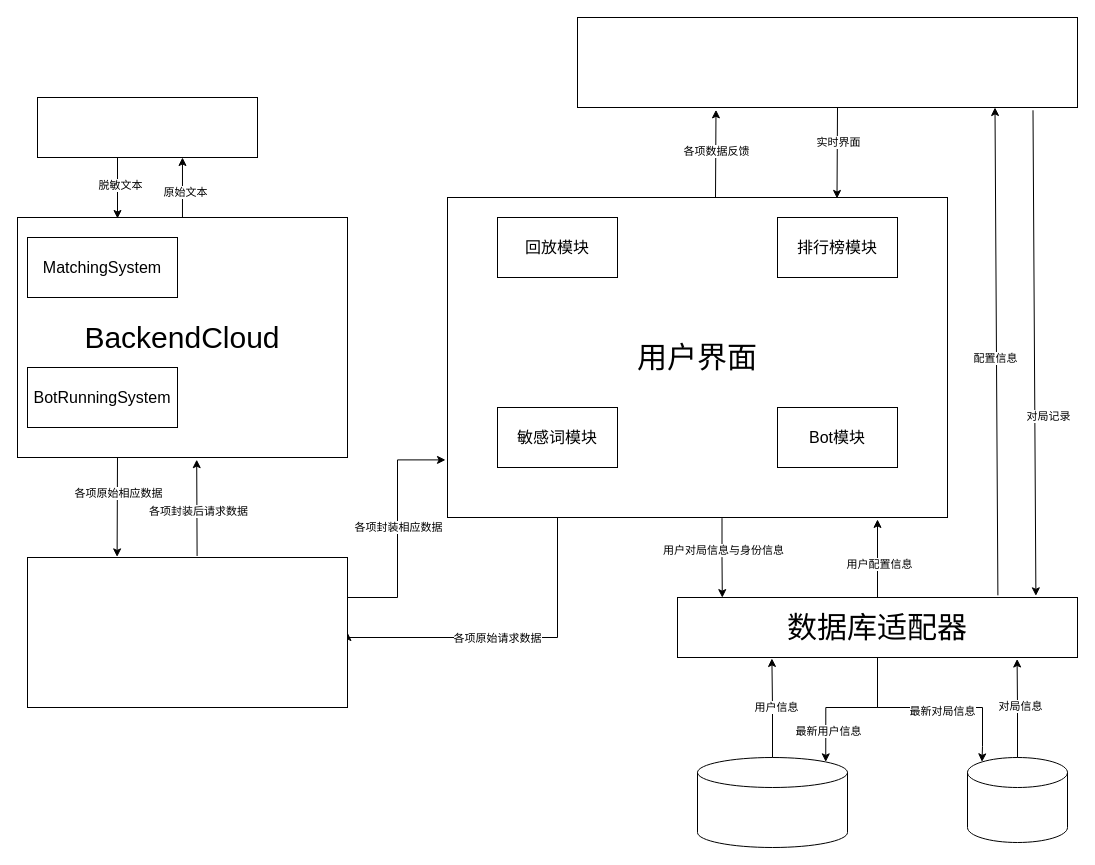
This 1095x865 diagram has some shape labels left out. The centre of each missing label's shape, as x and y in pixels:
"SenstiveWord" belongs at [147,127].
"SharePreference" belongs at [772,802].
"SQLite" belongs at [1017,799].
"游戏运行模块" belongs at [827,62].
"网络请求模块" belongs at [187,632].
